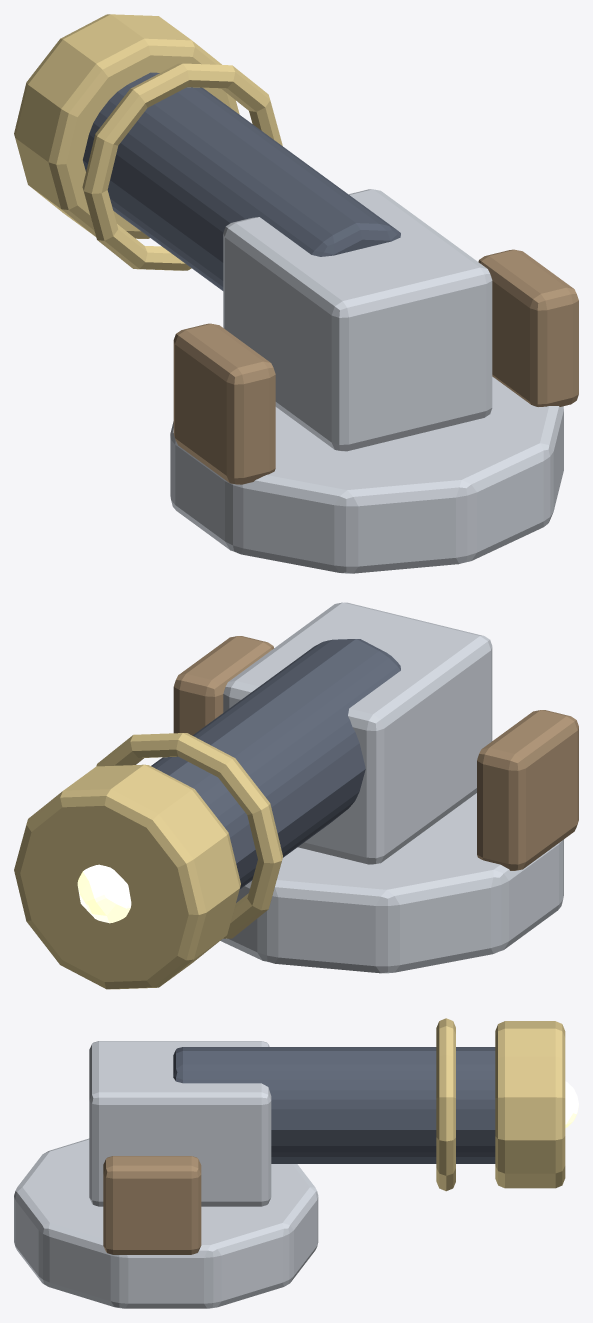
Rendered from turret_barrel.glb.
The picture shows the model from 3 angles, top to bottom: view 1: azimuth 30°, elevation 25°; view 2: azimuth 150°, elevation 25°; view 3: azimuth 270°, elevation 25°; orthographic projection. The views are drawn at different scales.
Visible parts, largest first — view 1: turret_barrel; view 2: turret_barrel; view 3: turret_barrel.
Part boxes in pixels (x1,y1,x2,y2): turret_barrel: [14, 14, 578, 573]; turret_barrel: [14, 602, 578, 989]; turret_barrel: [14, 1018, 578, 1308].
Bounding box in the file's own units: 0.44 × 0.3541 × 0.8071.
